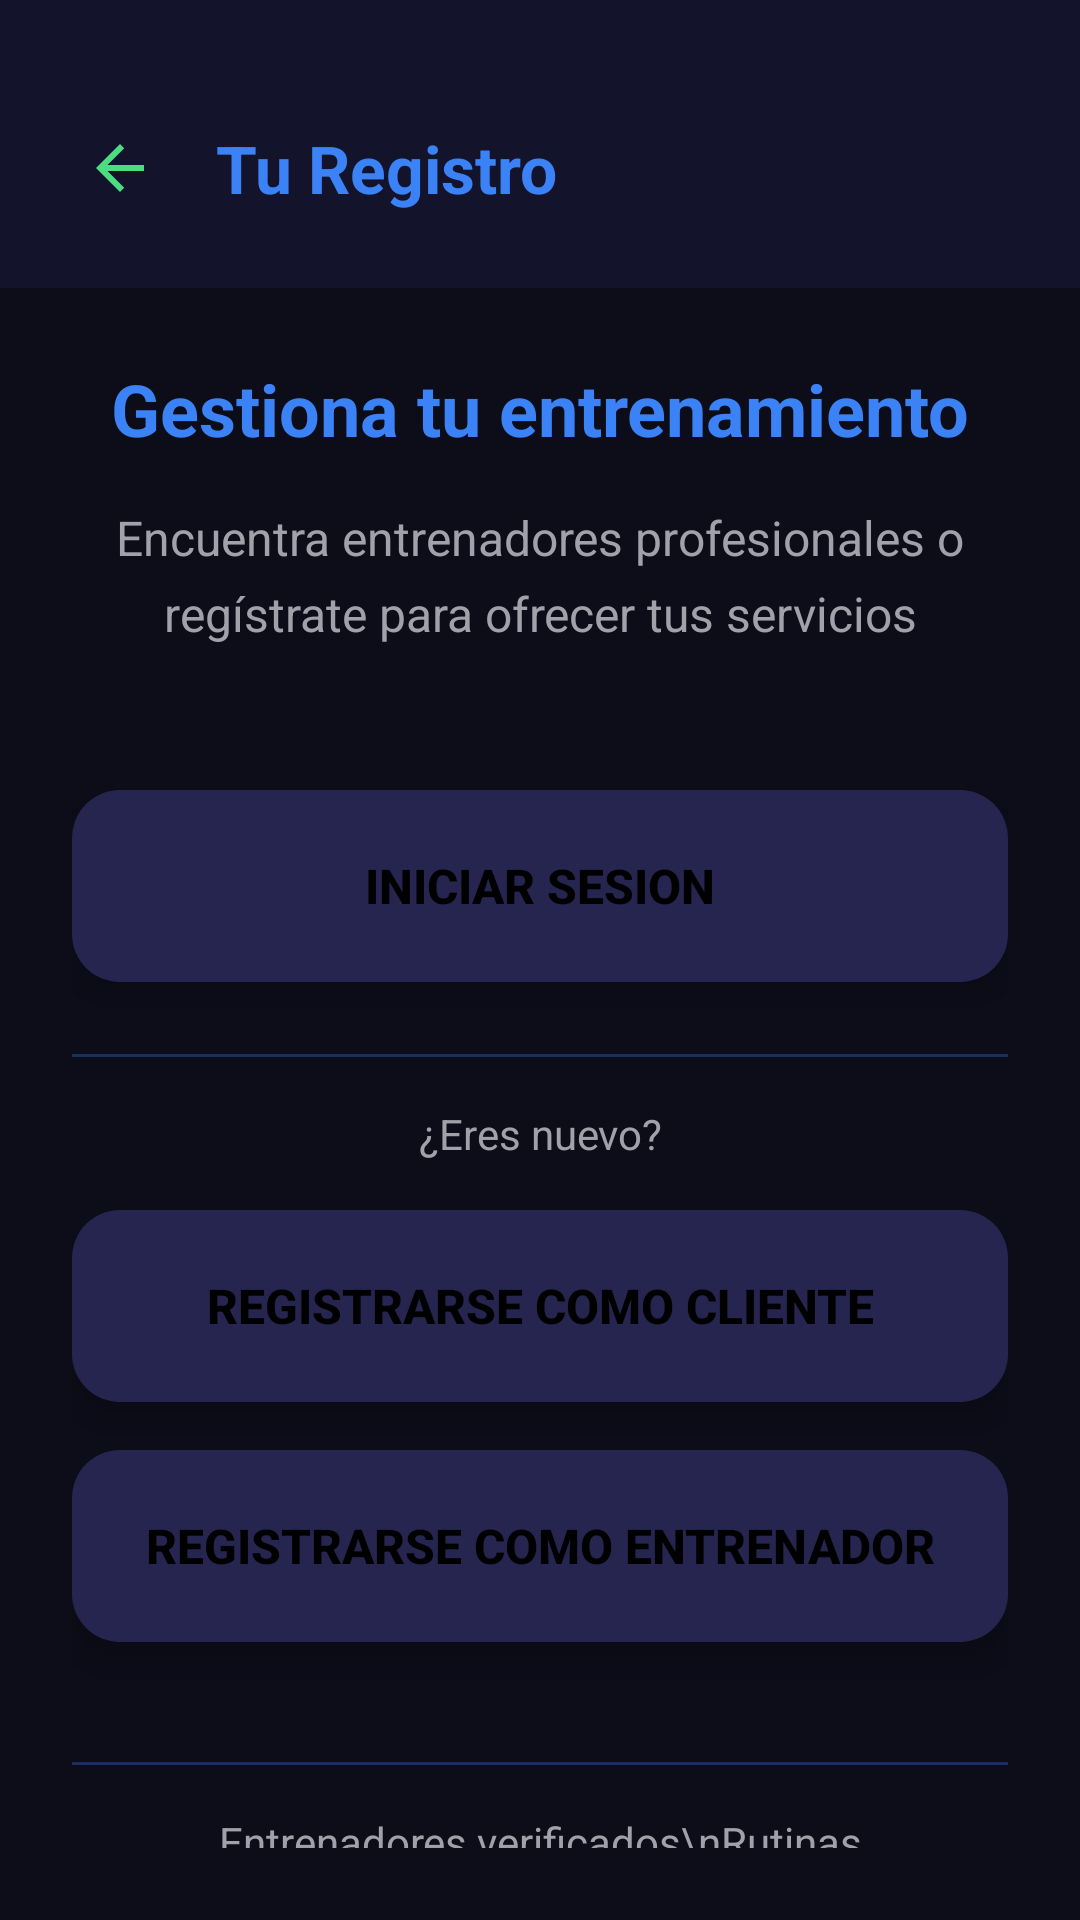

Where icons sit on this 1080w x 1920h app screen, as (x1, y1, x2, y2):
Volver: (96, 144, 144, 192)
